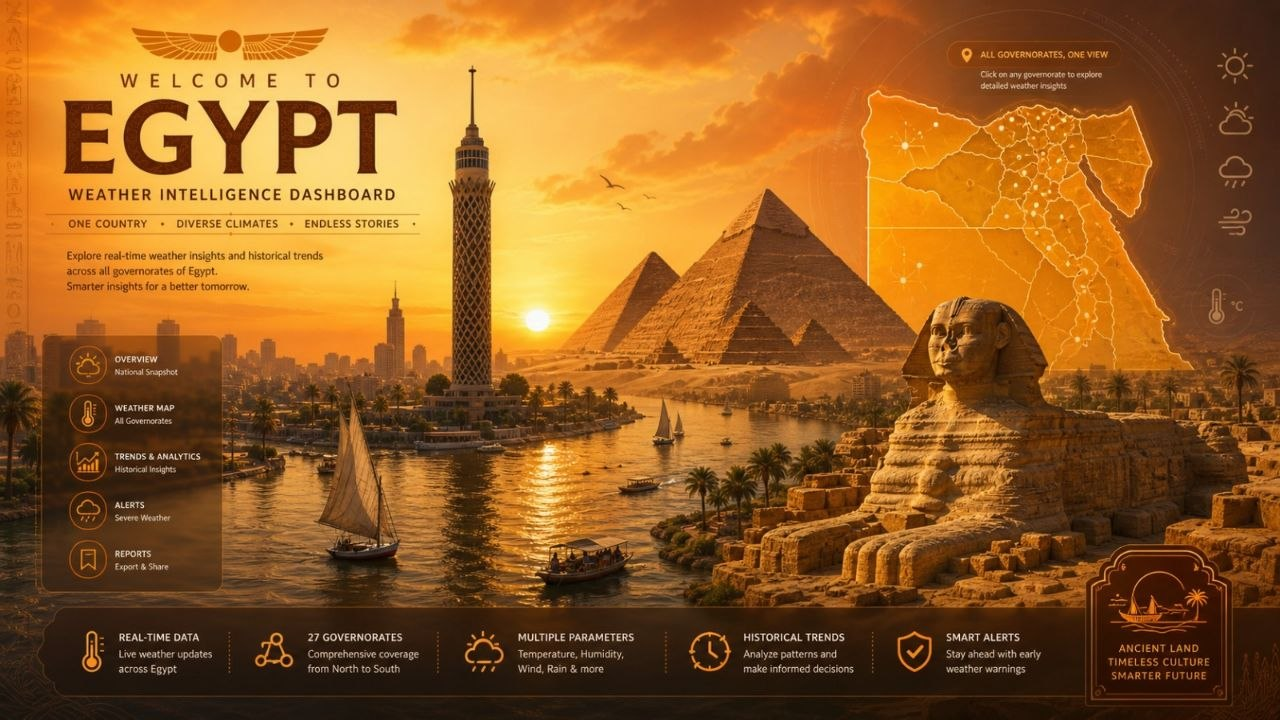

The dashboard page shown, as its layout file describes it:
{"tool":"powerbi","page":{"name":"Home","canvas":[1280,720],"ordinal":0},"visuals":[{"type":"image","box":[0,0,1280.2,719.8],"z":0},{"type":"actionButton","box":[948.8,37.2,173.3,32.6],"z":2501}]}

Visuals, with their boxes in screenshot pixels (x1, y1, x2, y2), scaled from the page's 1280x720 canvas onto the 1280x720 screenshot:
image: bbox=[0, 0, 1279, 719]
actionButton: bbox=[949, 37, 1122, 70]
